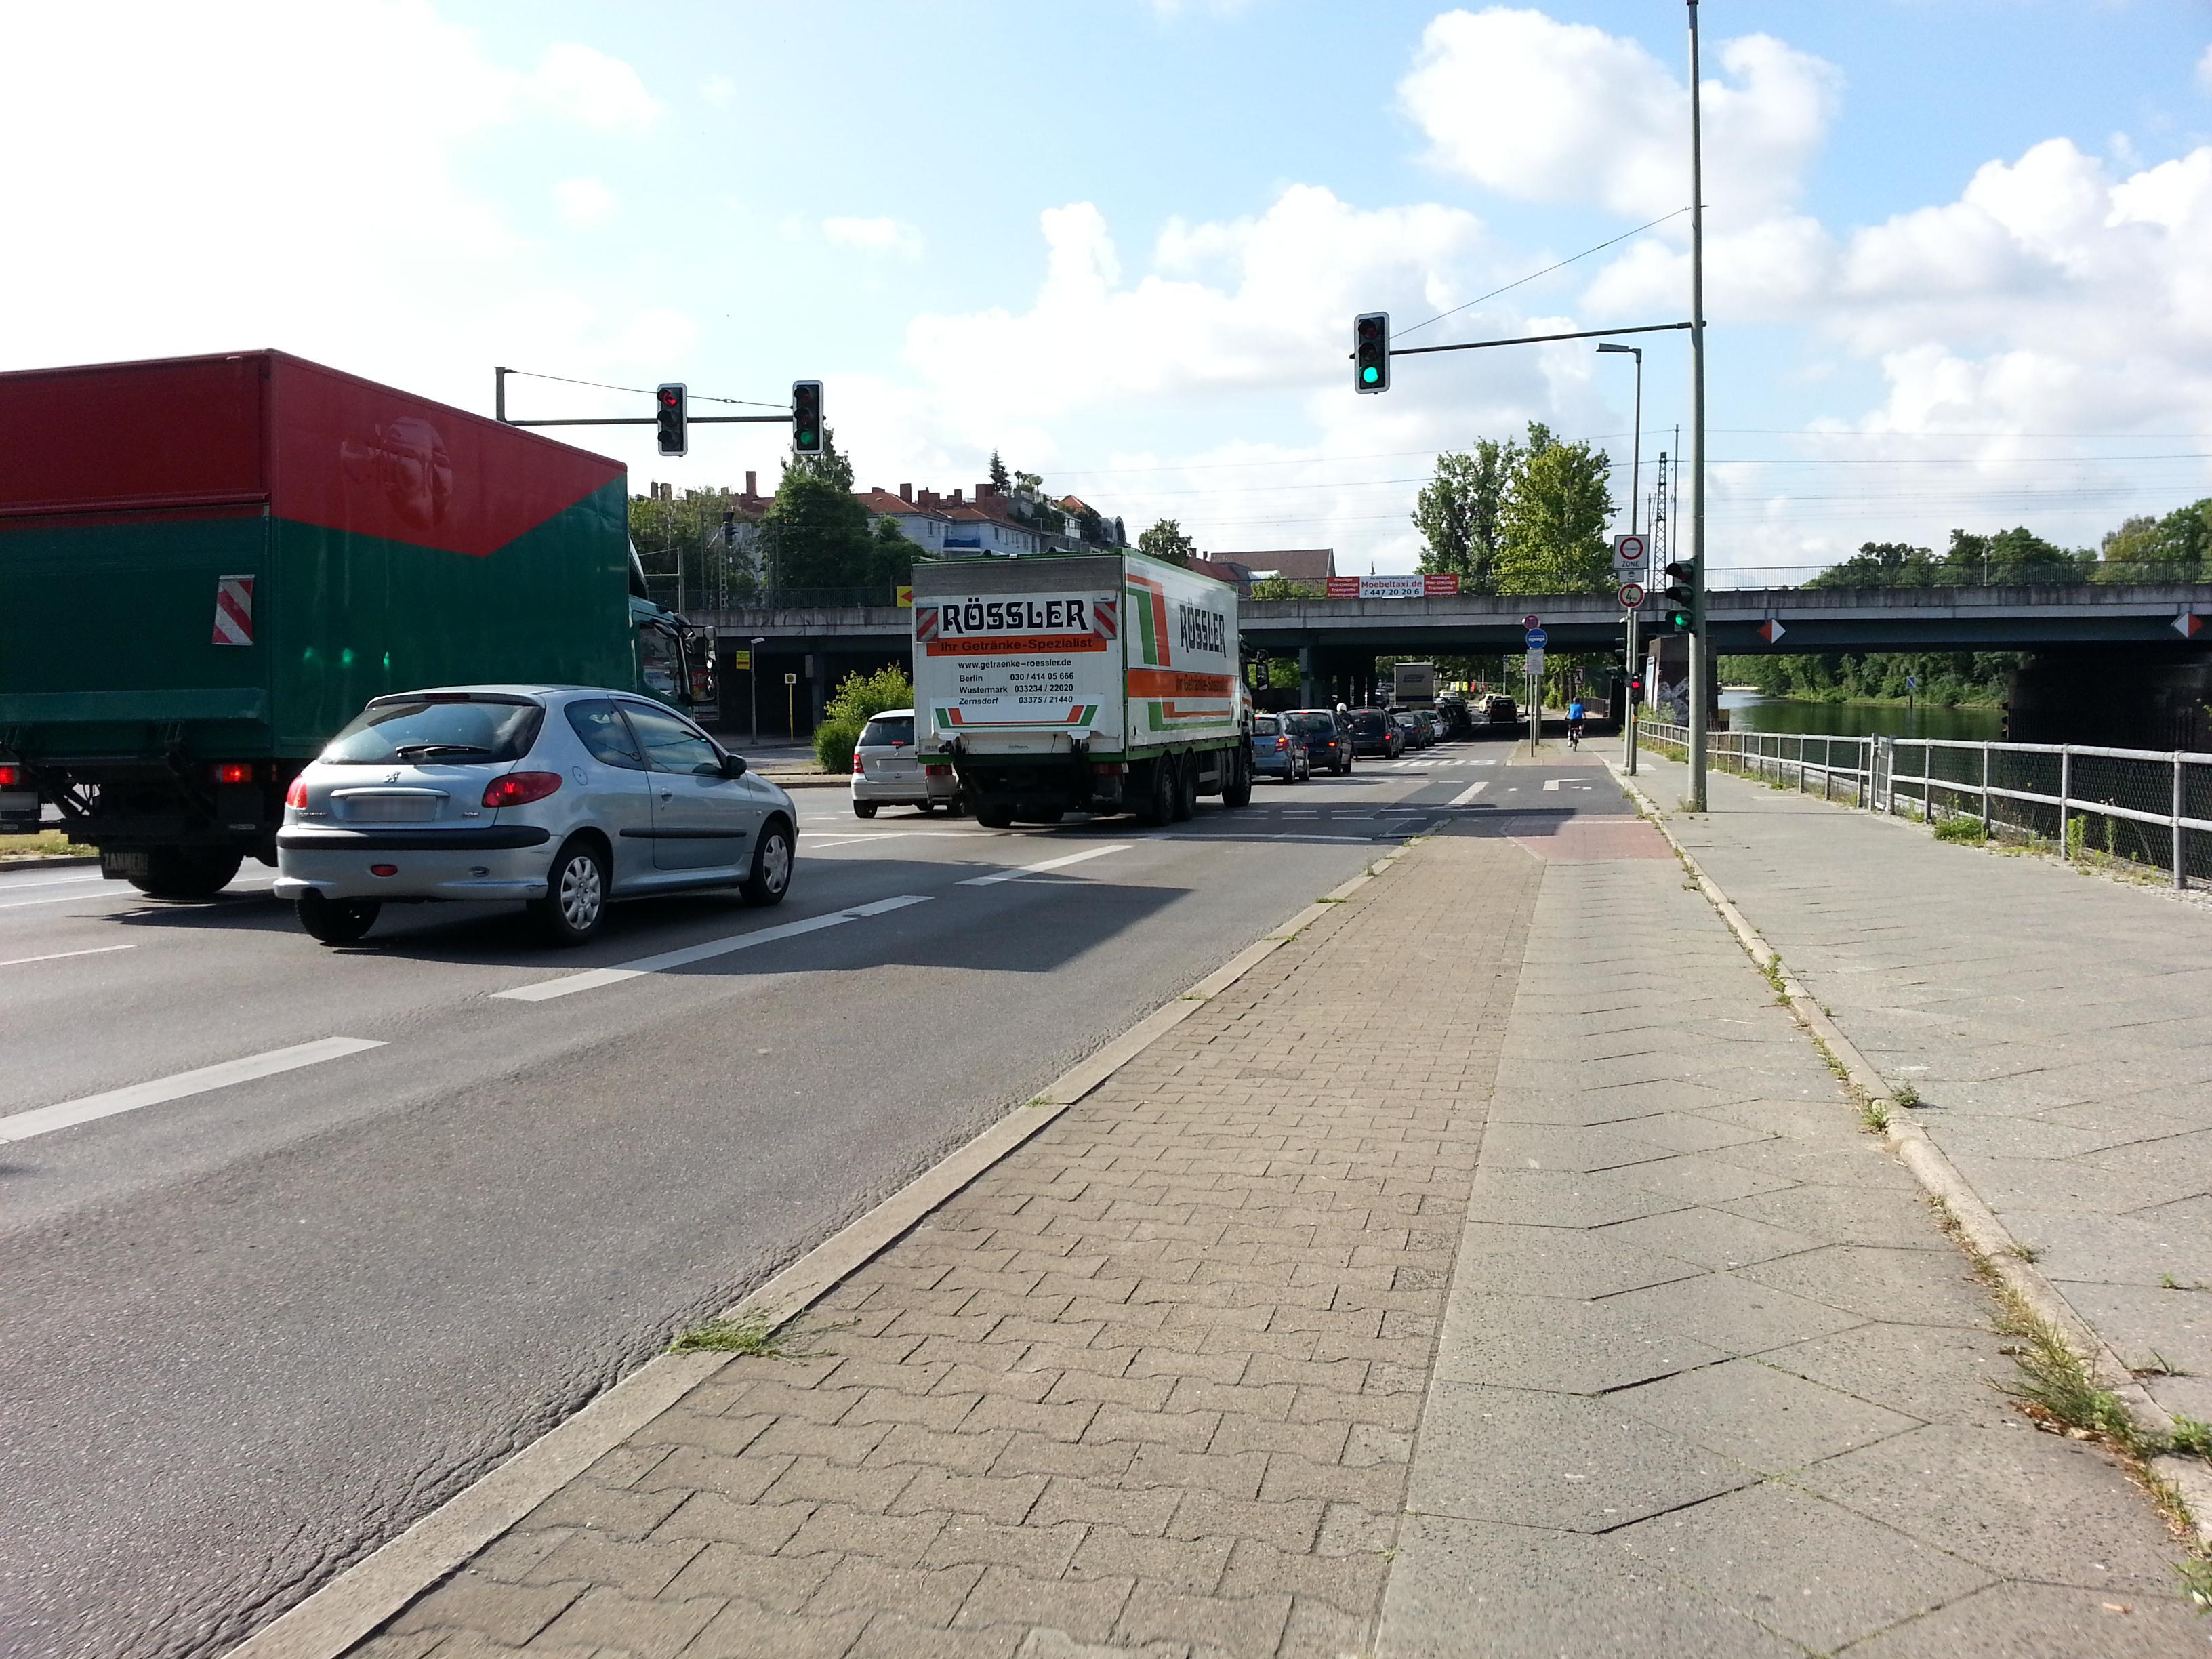vinyl banner: (1324, 563, 1470, 599)
